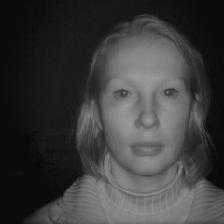normal: (83, 25, 207, 172)
